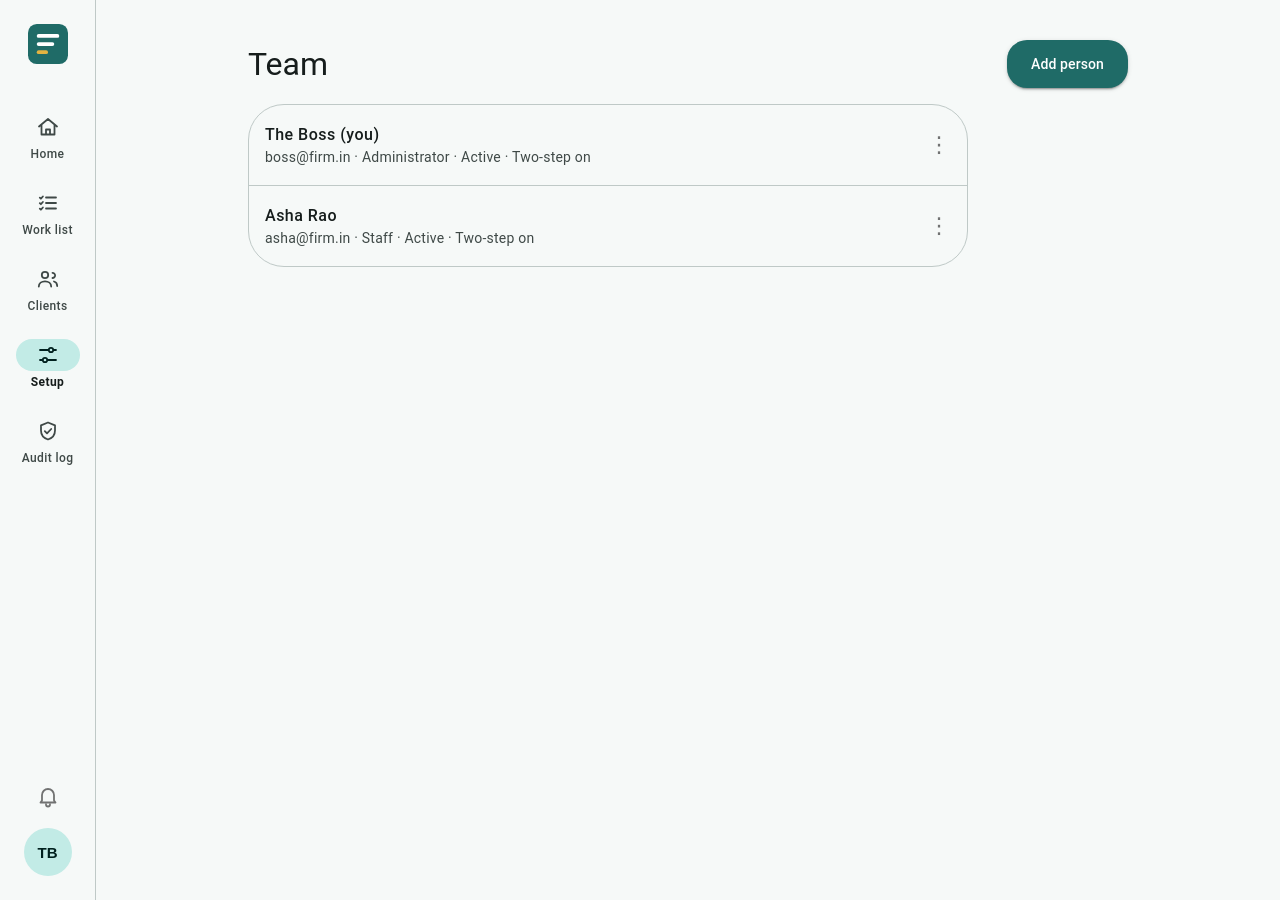
Test: Team screen › disables someone only after confirmation, then refreshes the list
Click the button named "Actions for Asha Rao": click(939, 226) [915, 202, 963, 250]
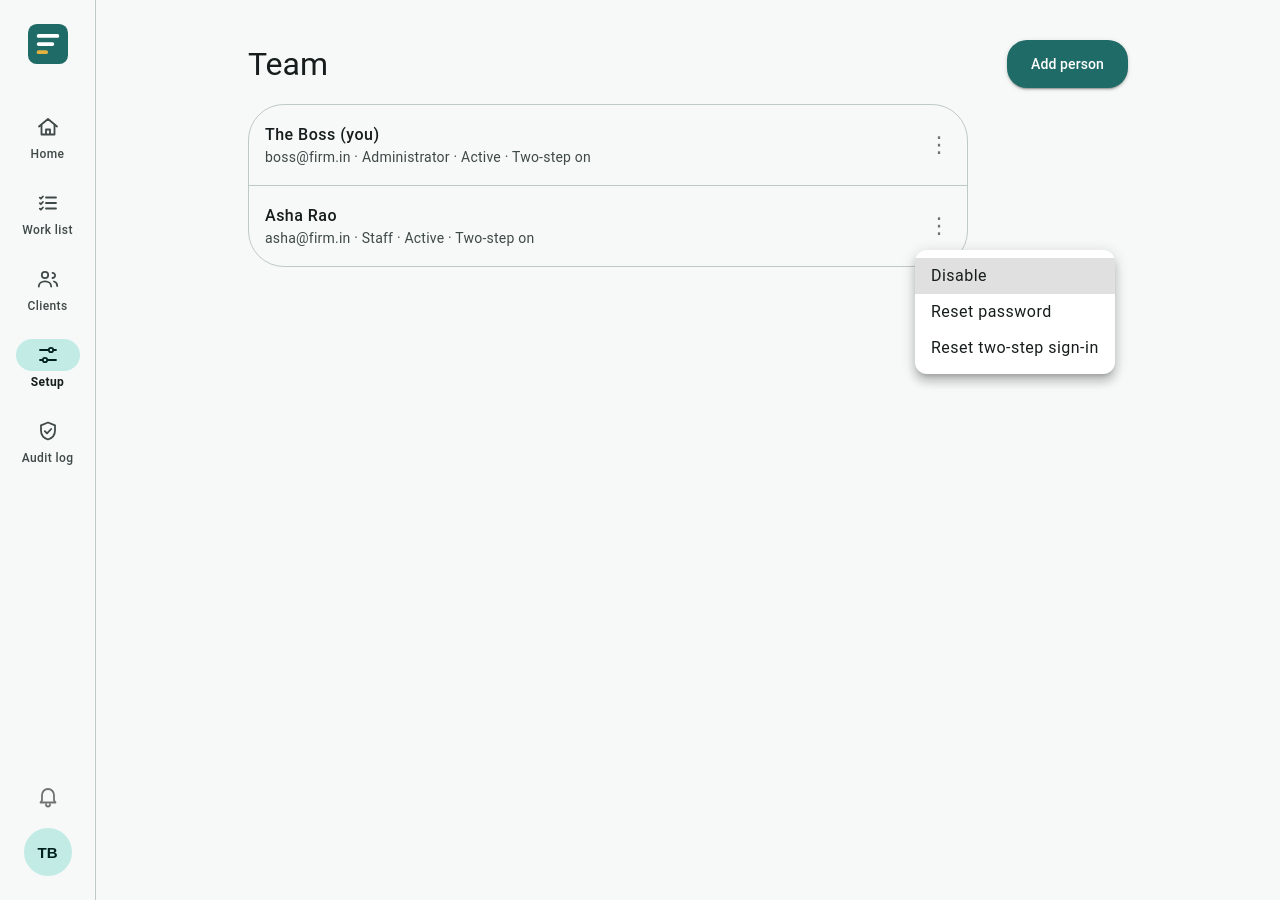
Click the menu item "Disable": click(1015, 276) [915, 258, 1115, 294]
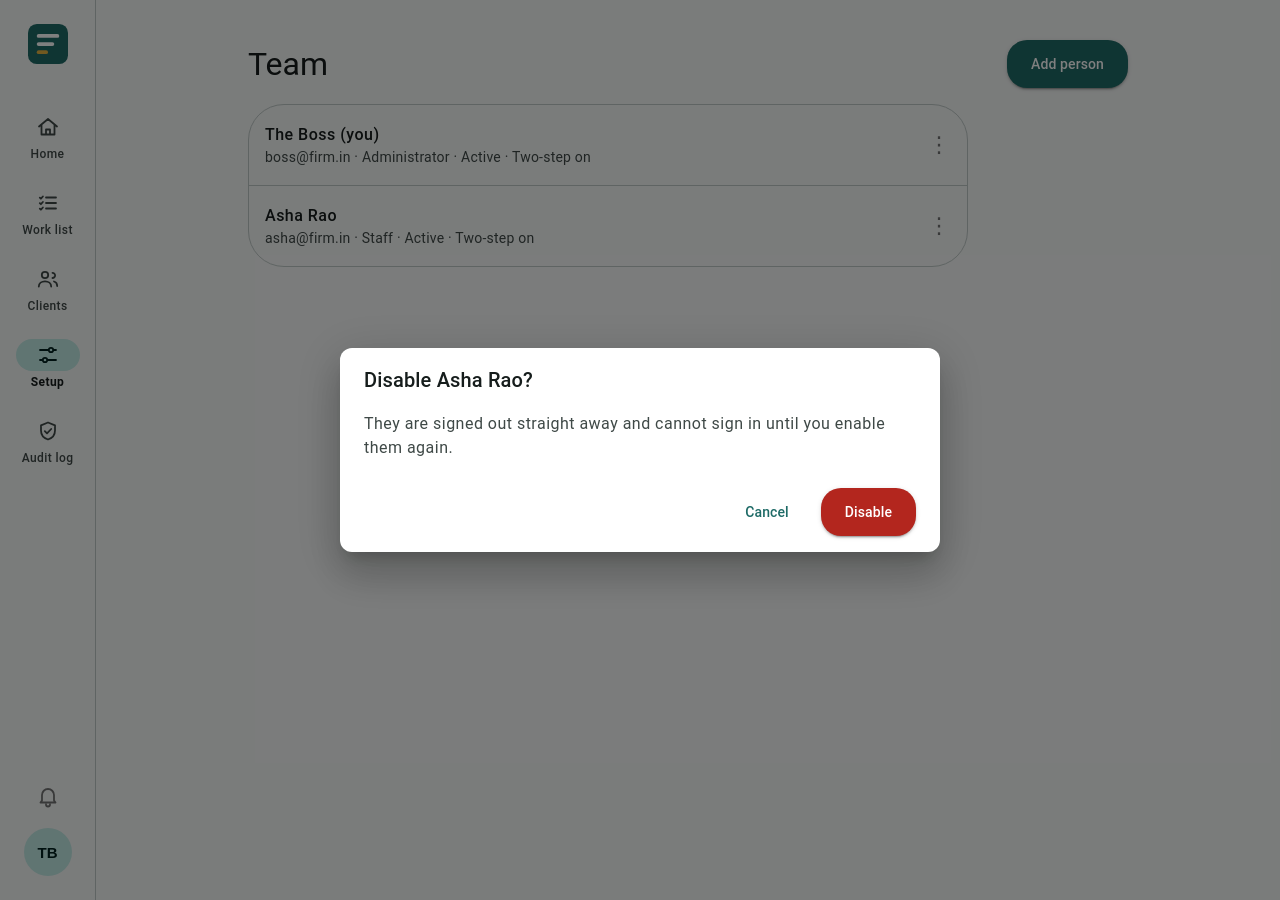
Click the button "Disable": click(868, 512) [821, 488, 916, 536]
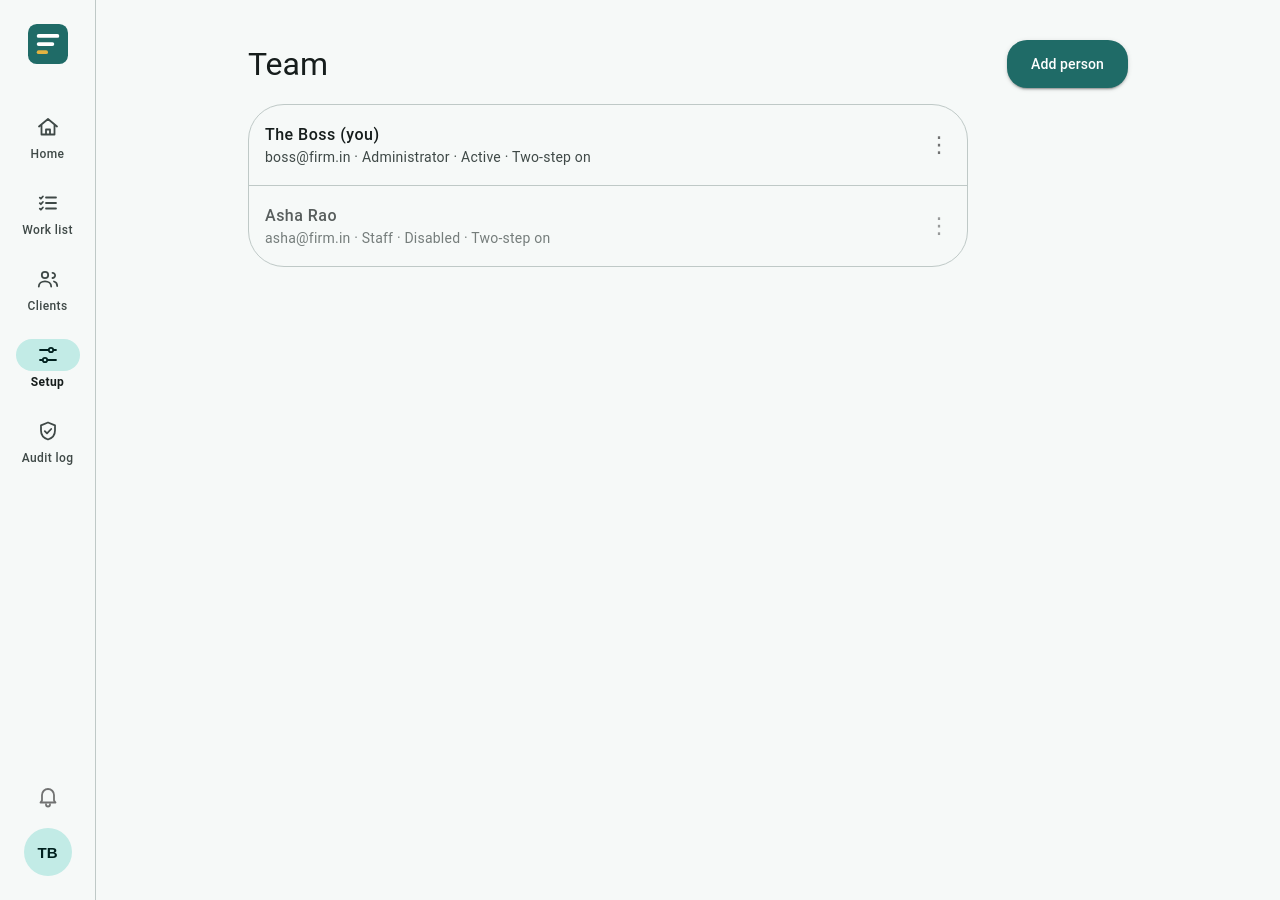
Result: the text "asha@firm.in · Staff · Disabled · Two-step on" is shown at [265, 230, 550, 246]
